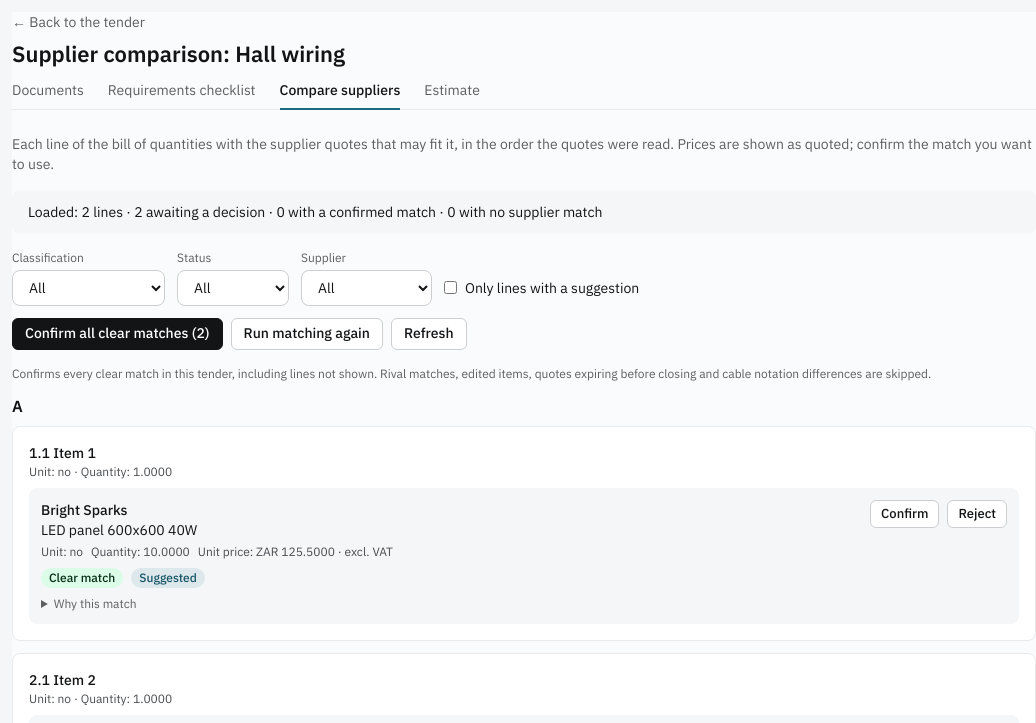
ComparisonView › says matching started, and clears it when confirm-all starts
Step 1. Click the button "Run matching again" → (307, 334), box [230, 318, 383, 350]
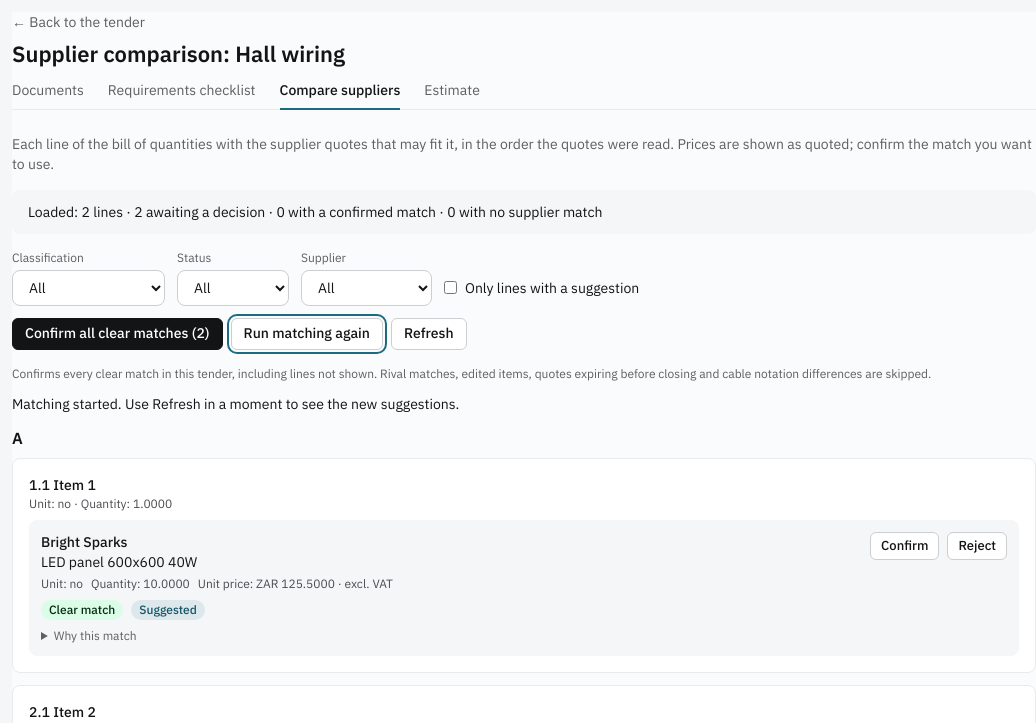
Expected: the text "Matching started" is shown, [12, 394, 459, 412]
Step 2. Click the button "Confirm all clear matches (2)" → (117, 334), box [12, 318, 222, 350]
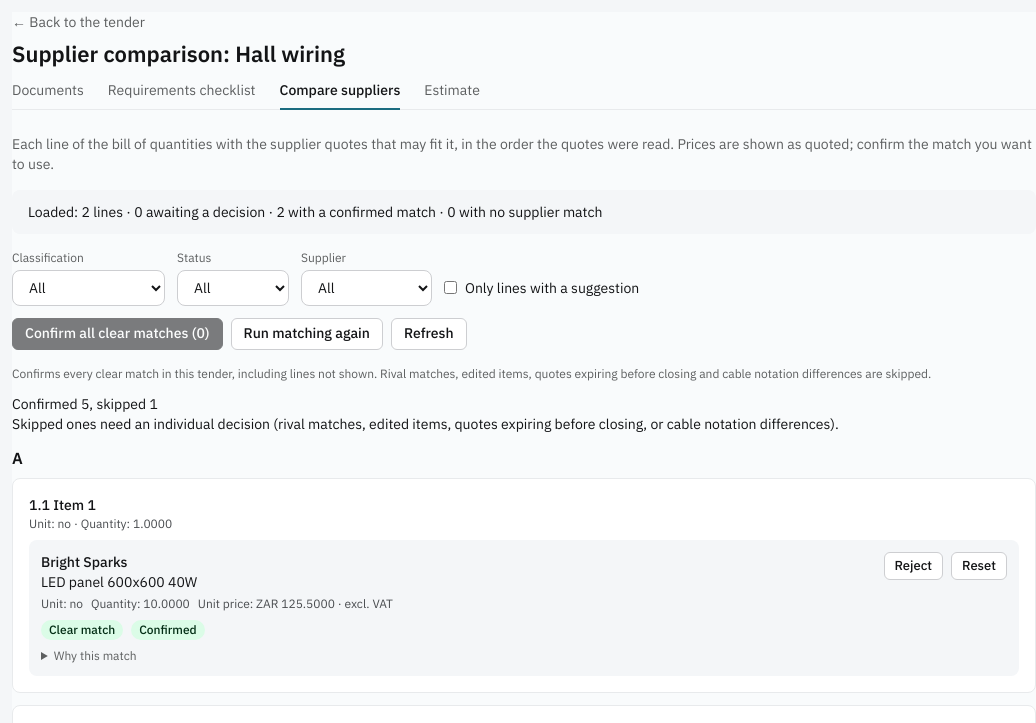
Expected: the text "Confirmed 5, skipped 1" is shown, [12, 394, 158, 412]
Expected: the text "Matching started" is gone
